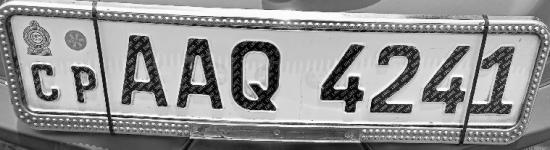2: (369, 40, 421, 116)
4: (312, 40, 368, 115), (422, 38, 472, 118), (469, 44, 517, 118)
A: (116, 28, 173, 113), (174, 30, 226, 115)
C: (28, 59, 62, 105)
P: (66, 62, 100, 106)
Q: (225, 38, 290, 117)
